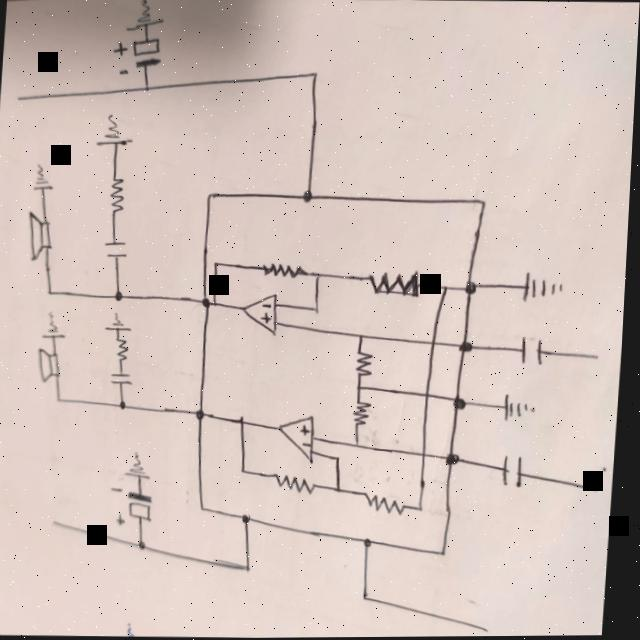capacitor: (111, 36, 163, 77), (113, 482, 158, 527), (99, 231, 135, 266), (504, 457, 531, 489), (521, 337, 549, 366), (111, 372, 137, 388)
ground: (99, 110, 135, 149), (523, 271, 566, 303), (123, 0, 162, 32), (128, 449, 159, 483), (505, 393, 539, 423), (101, 308, 139, 333), (31, 163, 58, 194), (45, 313, 69, 339)
junction: (194, 404, 214, 426), (241, 507, 260, 529), (447, 448, 465, 468), (453, 394, 472, 412), (465, 280, 481, 298), (138, 537, 155, 553), (459, 340, 477, 355), (364, 588, 378, 607), (204, 187, 220, 203), (478, 196, 493, 212), (312, 267, 327, 283), (365, 535, 379, 551), (311, 302, 325, 317), (202, 294, 215, 310), (302, 188, 315, 204), (212, 255, 225, 271), (141, 80, 155, 94), (440, 280, 453, 295), (115, 288, 128, 302), (356, 329, 369, 343), (200, 502, 214, 515), (245, 560, 258, 574), (336, 482, 349, 496), (417, 501, 430, 515), (430, 336, 443, 350), (212, 294, 224, 309), (309, 67, 321, 81), (239, 414, 251, 428), (335, 452, 347, 466), (424, 388, 437, 400), (47, 285, 58, 299), (422, 447, 433, 461), (242, 464, 254, 475), (442, 547, 453, 558), (121, 399, 131, 410), (356, 439, 367, 449), (358, 382, 368, 392), (59, 394, 66, 403)
resistor: (370, 270, 422, 299), (107, 170, 127, 218), (278, 474, 322, 495), (352, 396, 379, 430), (370, 493, 410, 515), (263, 261, 308, 280), (354, 346, 378, 380), (113, 336, 134, 362)
terminal: (589, 480, 608, 498), (588, 347, 605, 365), (482, 621, 499, 637), (54, 515, 68, 530), (14, 91, 28, 105)
